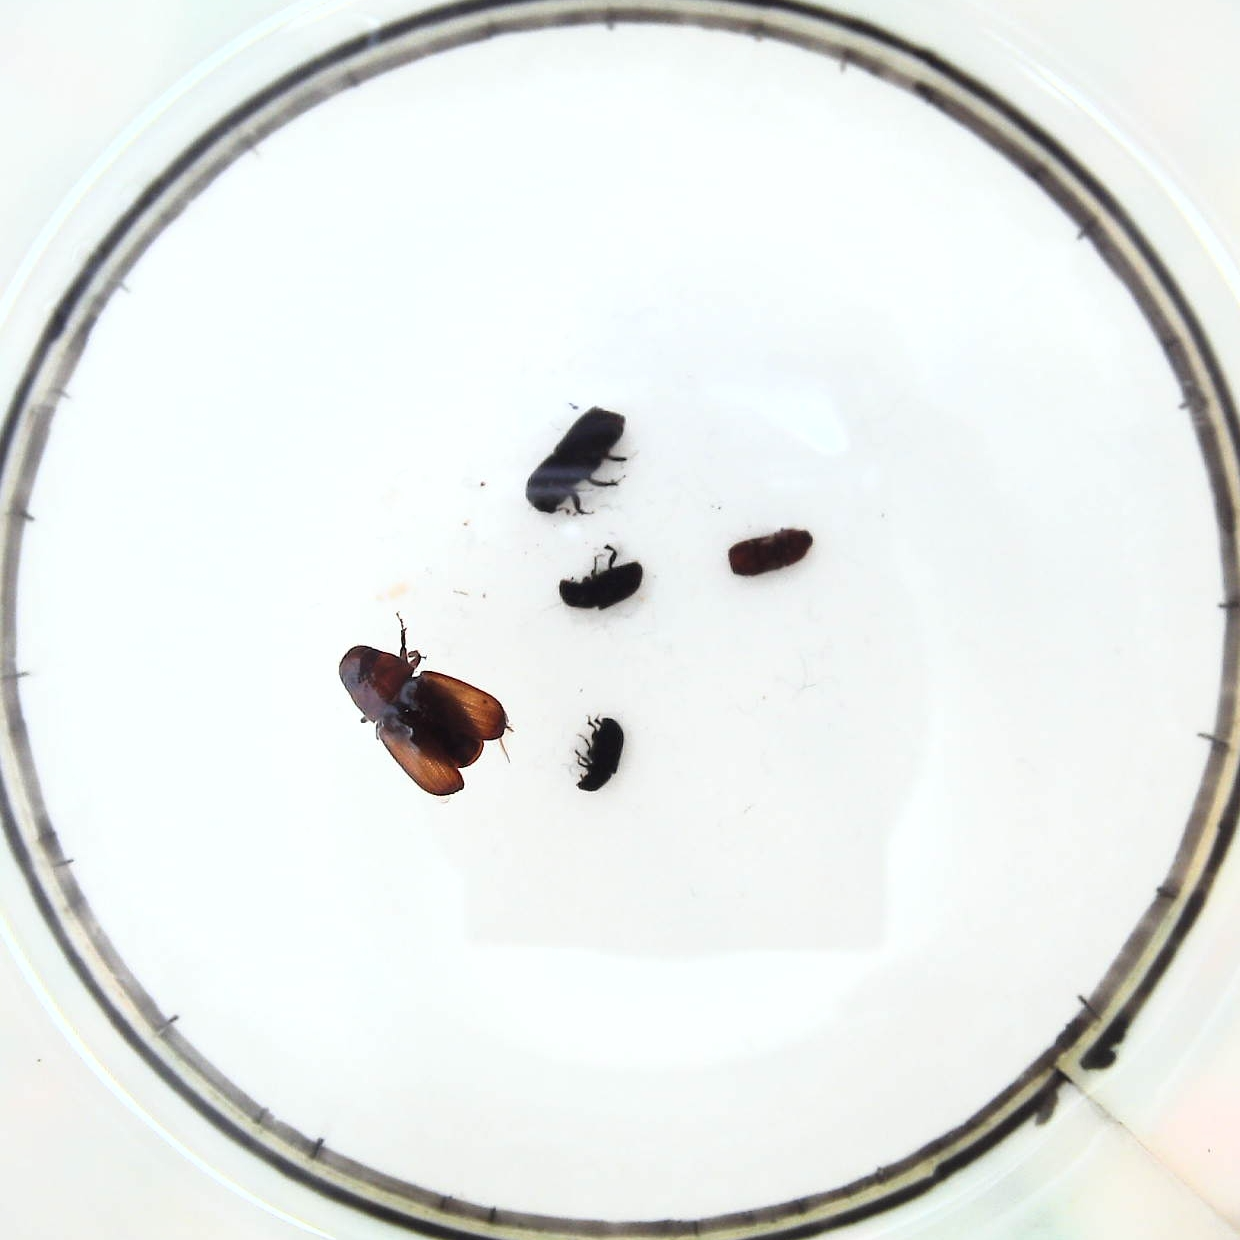Boerner: (526, 405, 626, 514)
Leconte: (332, 640, 508, 801)
Linnaeus: (728, 529, 813, 580)
armandi: (560, 562, 646, 613)
coleoptera: (572, 717, 628, 795)
